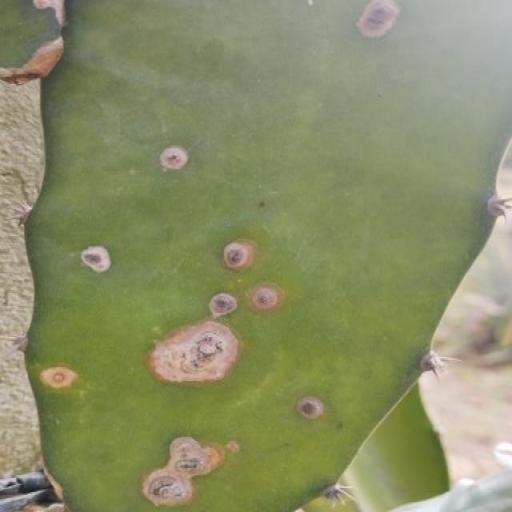stemcanker: (78, 242, 116, 281), (292, 390, 331, 425), (218, 235, 250, 276), (40, 363, 80, 394), (157, 143, 191, 176), (226, 435, 244, 460), (255, 196, 269, 212)
